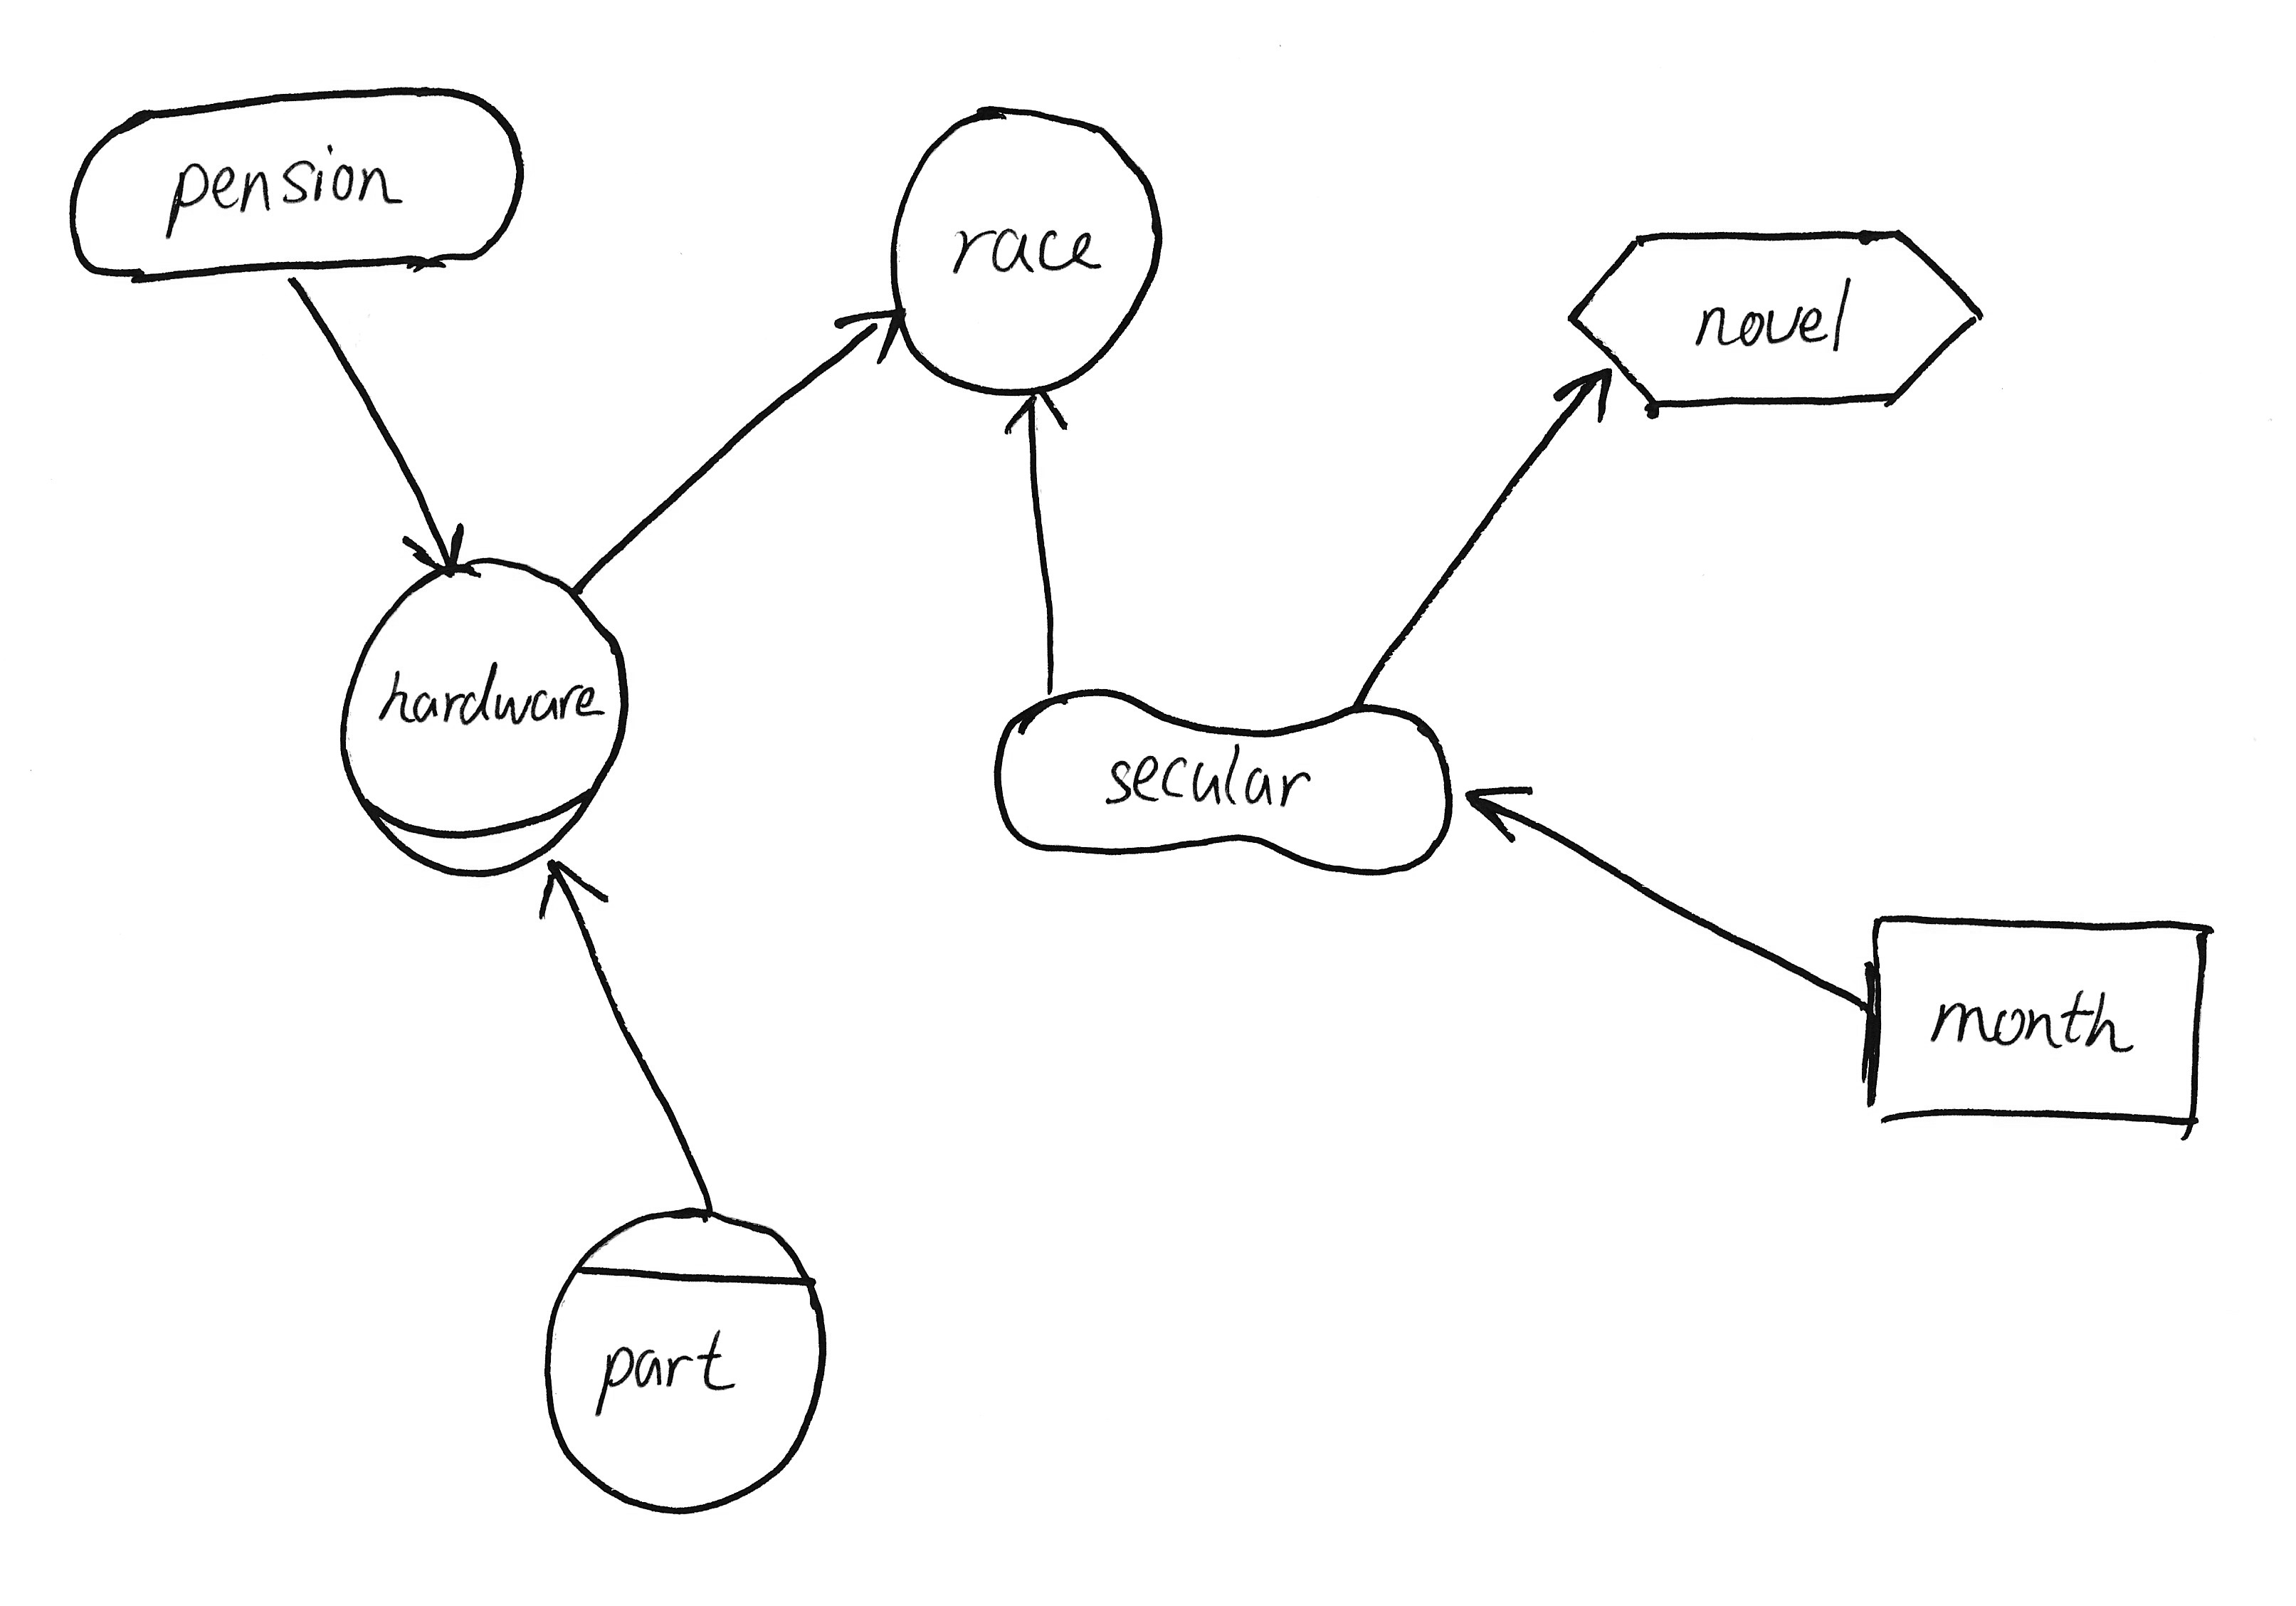actor: (867, 86, 1174, 410)
agent: (523, 1187, 841, 1527)
arrow: (813, 286, 914, 395), (1455, 761, 1541, 861), (1539, 354, 1628, 443), (387, 501, 480, 580), (534, 854, 621, 936), (996, 386, 1075, 452)
goal: (56, 65, 541, 309)
quality: (977, 667, 1467, 897)
resource: (1851, 896, 2231, 1157)
role: (328, 546, 646, 890)
task: (1553, 208, 1994, 431)
